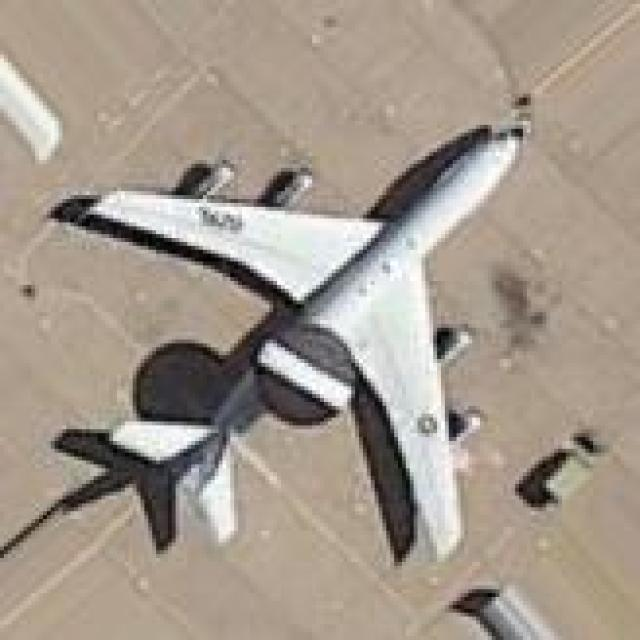E-3_TopDown: (0, 105, 531, 574)
